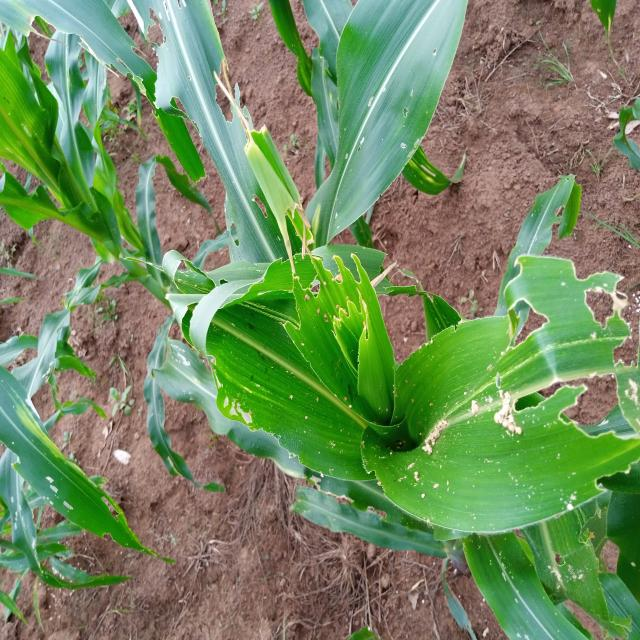fall-armyworm-egg: (461, 361, 538, 468), (404, 396, 468, 504), (612, 346, 640, 412)
fall-armyworm-larval-damage: (271, 227, 397, 375), (153, 275, 271, 431), (510, 361, 632, 468), (108, 0, 197, 138), (566, 223, 640, 361), (484, 260, 564, 372), (256, 166, 346, 261), (0, 2, 107, 73), (304, 438, 390, 515), (192, 46, 255, 145), (214, 200, 285, 282), (570, 434, 630, 499)
